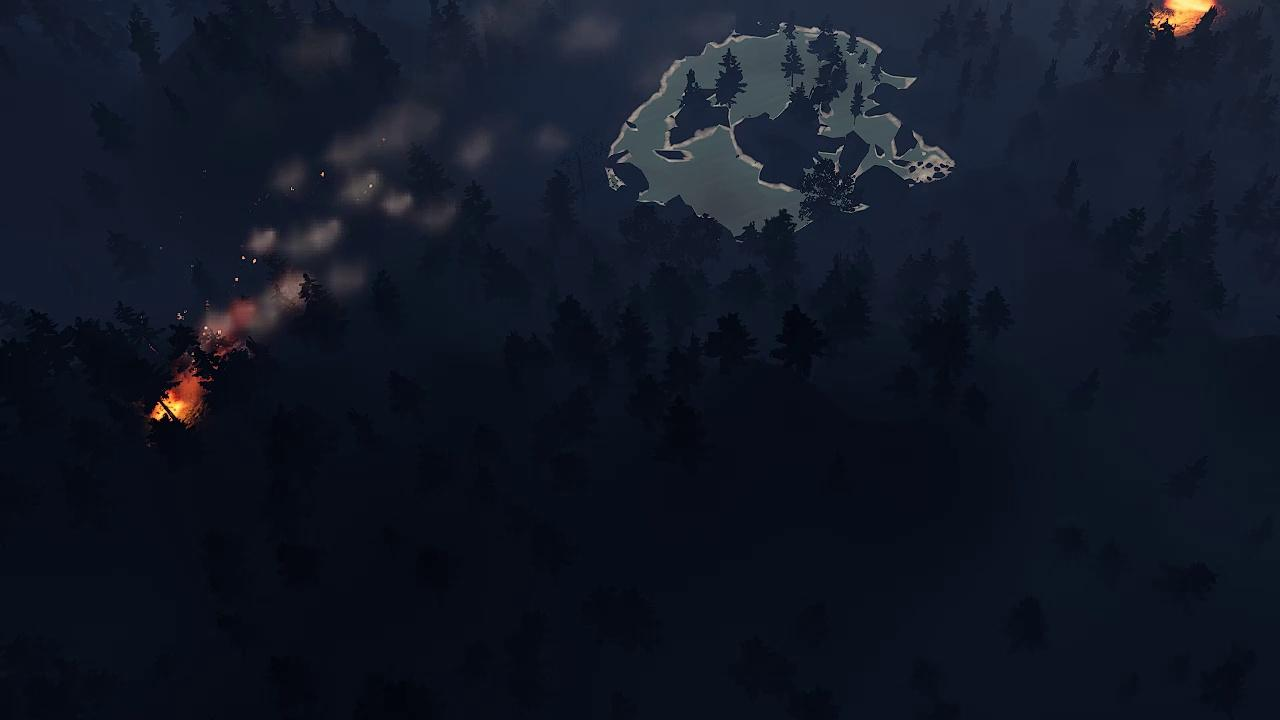fire: (154, 370, 208, 424), (1157, 0, 1222, 32), (190, 322, 241, 362)
smoke: (207, 95, 496, 347)
